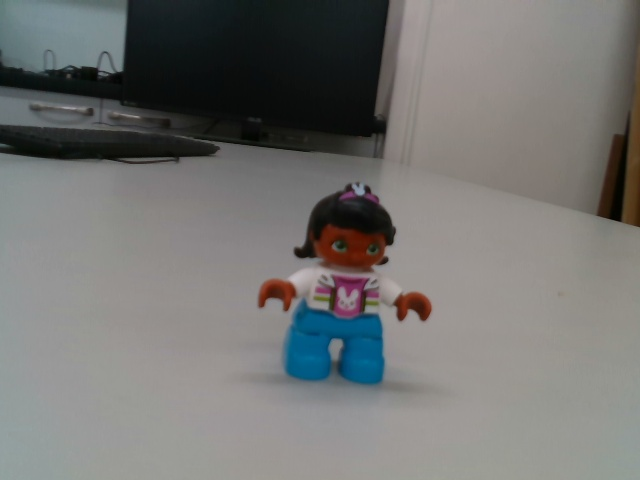people: (255, 181, 436, 387)
